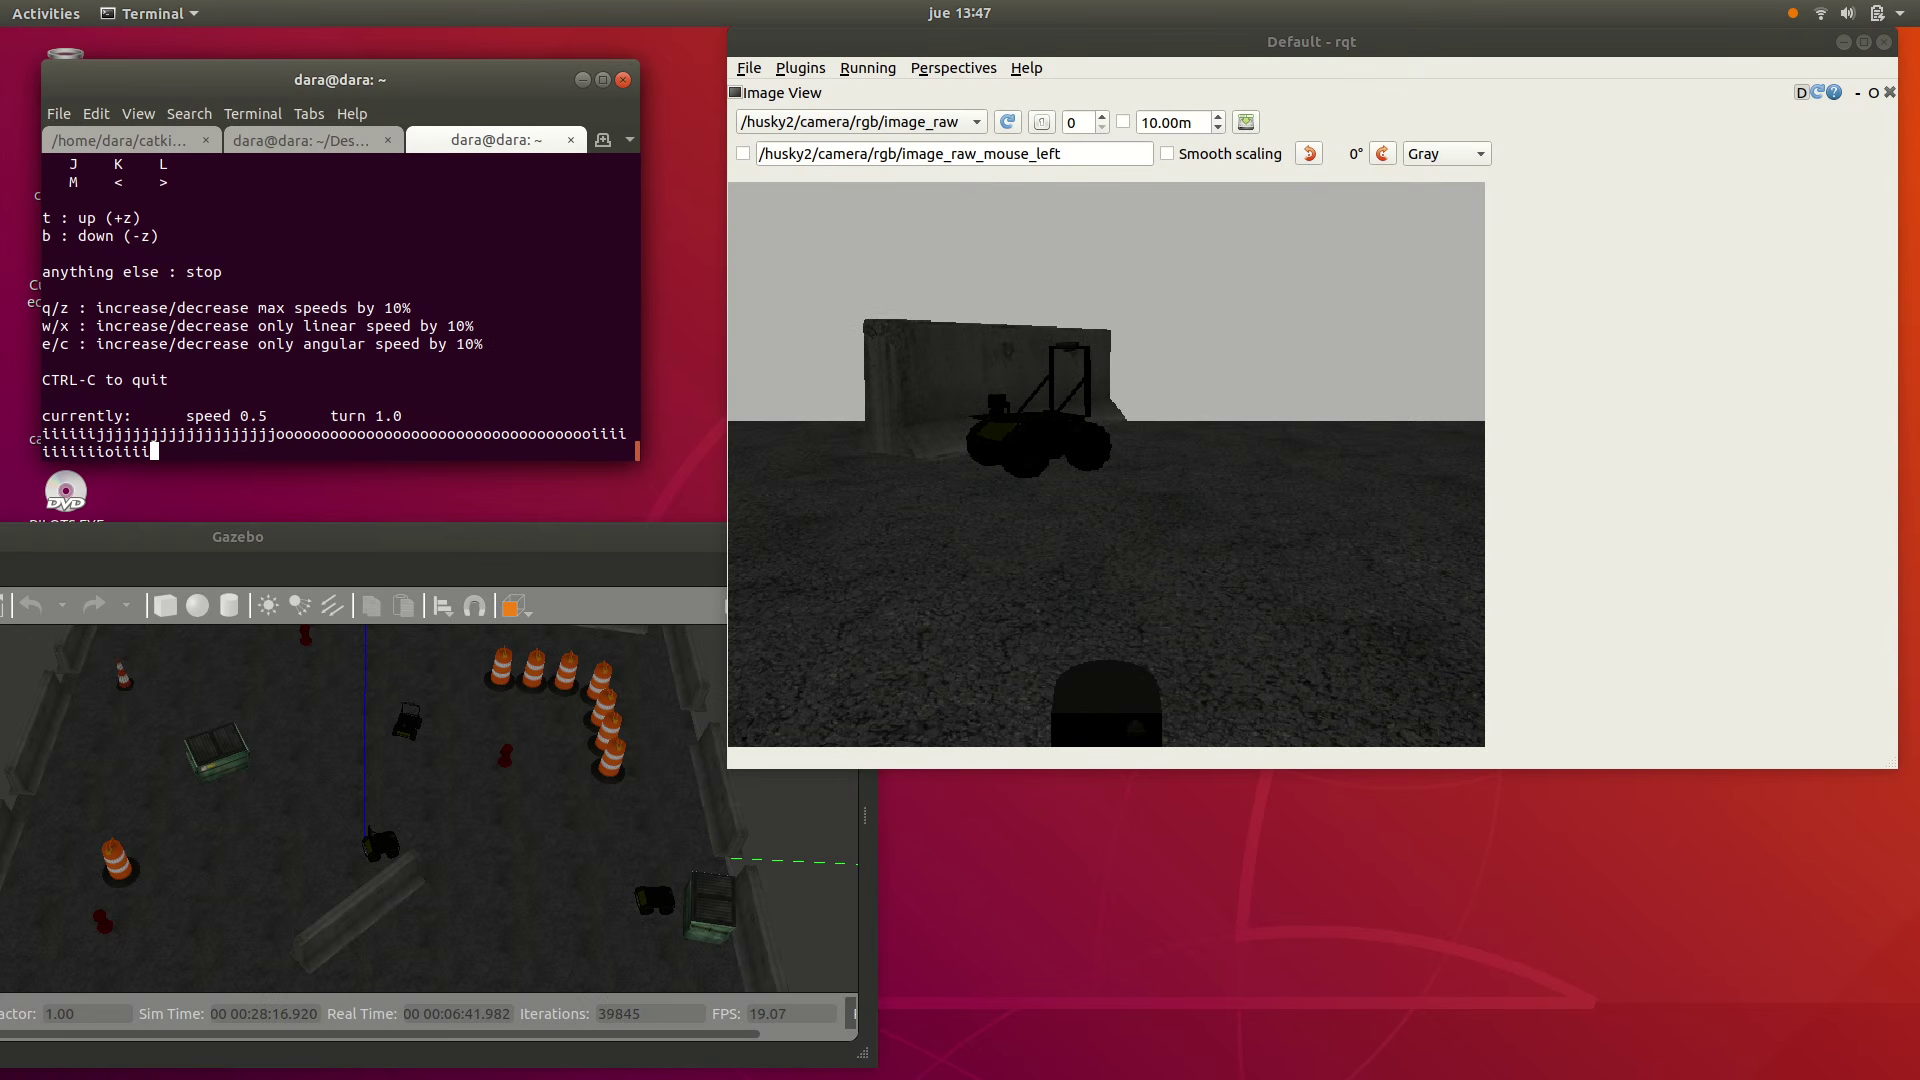husky: (968, 412, 1114, 479), (634, 885, 677, 916), (360, 830, 400, 863), (391, 712, 424, 741)
